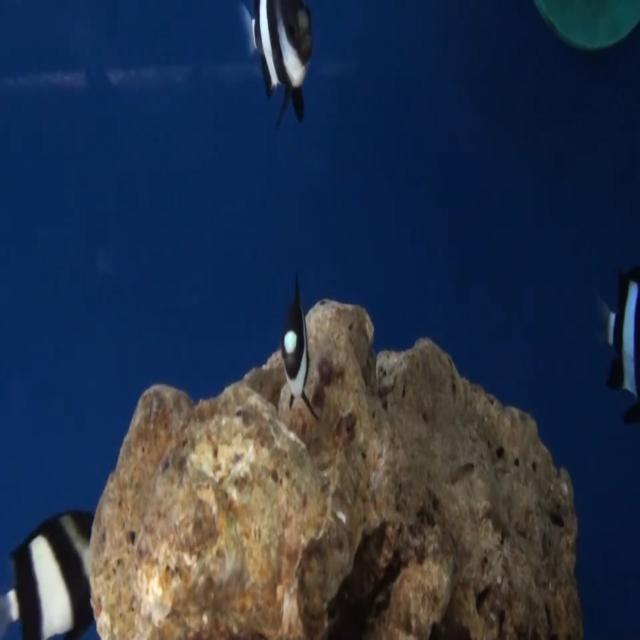ThreeStripedDamselfish: (242, 0, 313, 129), (277, 281, 315, 404)
